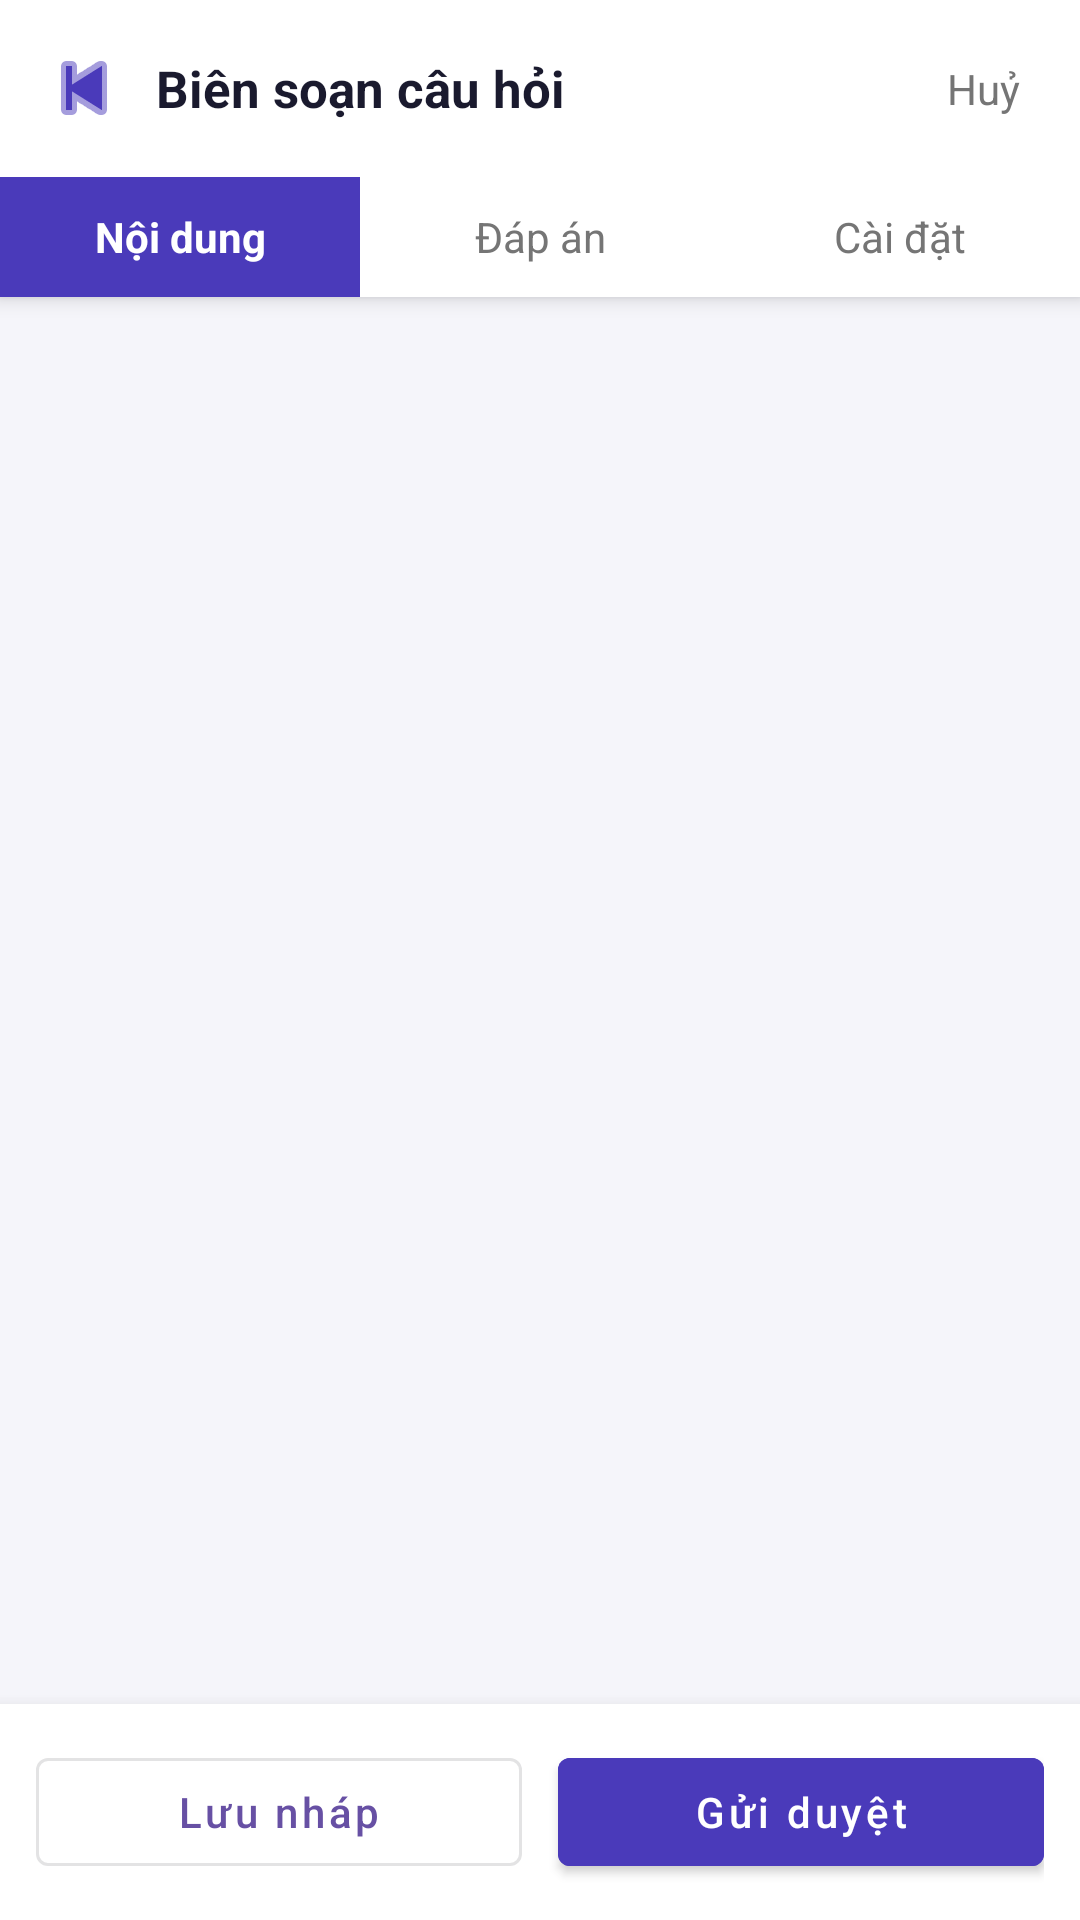

Locate icon controls on the screen. Image size 1080px x 1920px, boxes as detection(x1, y1, x2, y2).
previous: detection(61, 61, 107, 115)
